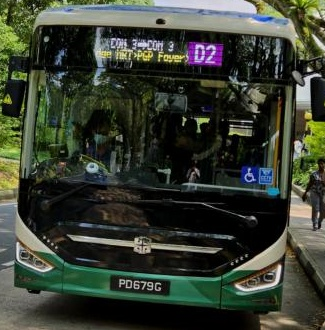bus: (186, 39, 222, 69)
